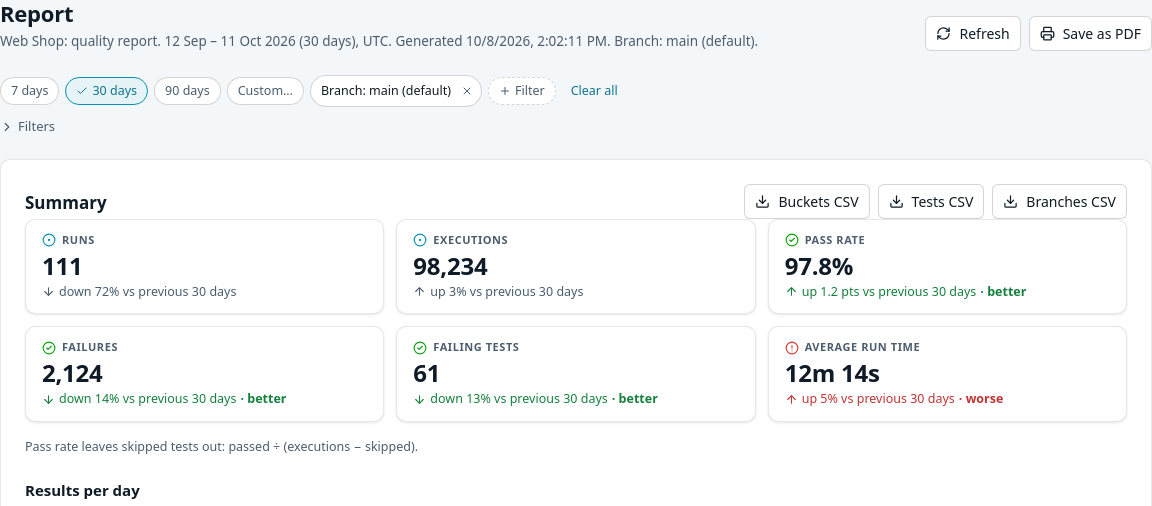
Scenario: a change back to answers already cached announces again; a failed summary is not announced
Expected: the element "Runs 111 down 72% vs previous 30 days" is shown, x1=25 y1=219 x2=384 y2=314
Click the button named "Remove filter Branch: main (default)". click: (467, 91)
box: x1=455 y1=79 x2=479 y2=103
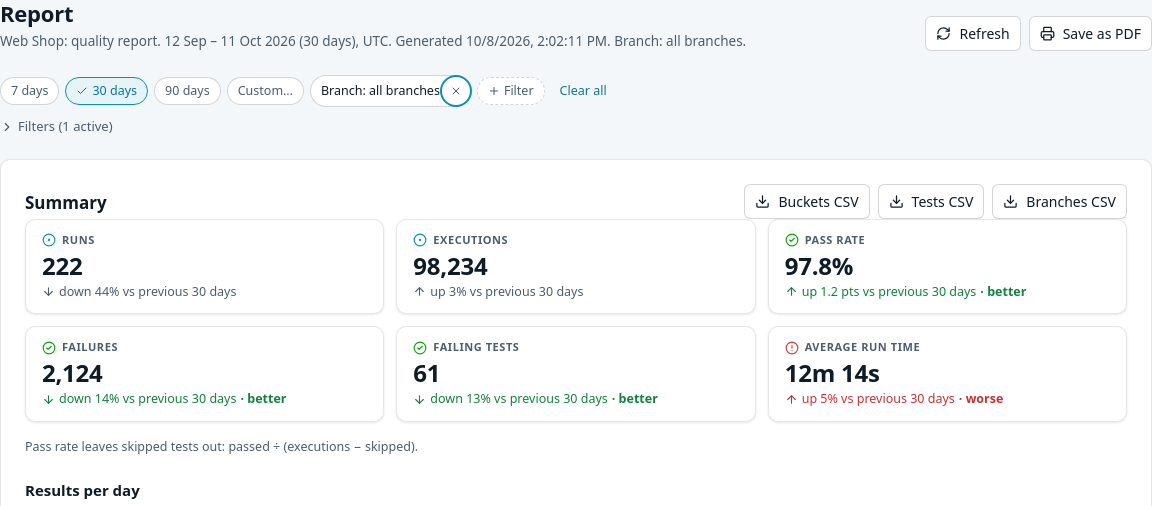
Click the button named "Remove filter Branch: all branches". click: (456, 91)
box: x1=444 y1=79 x2=468 y2=103
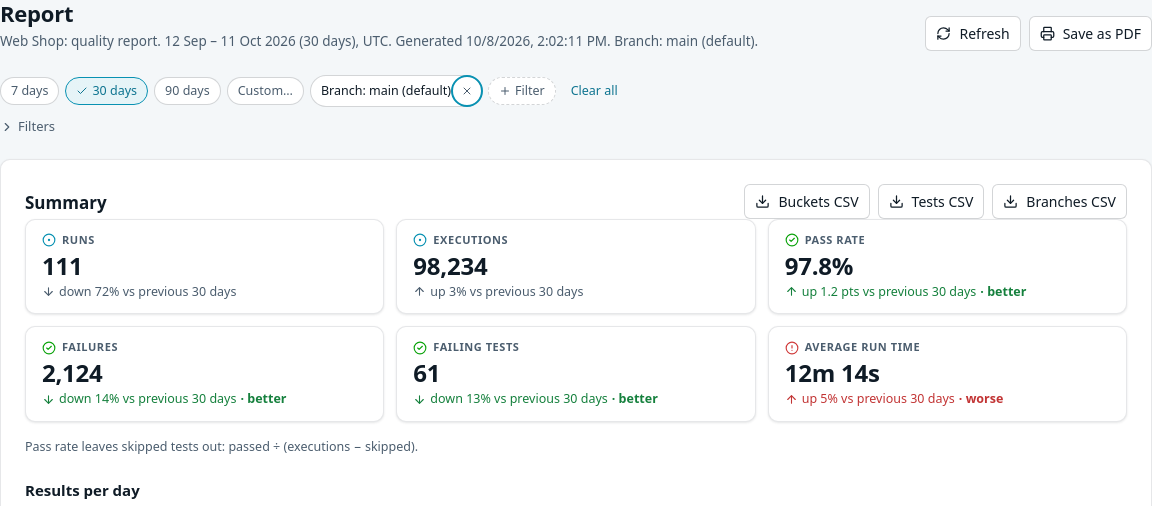
Expected: the element "Runs 111 down 72% vs previous 30 days" is shown, x1=25 y1=219 x2=384 y2=314
Click the button "7 days". click: (30, 91)
box: x1=0 y1=77 x2=60 y2=105
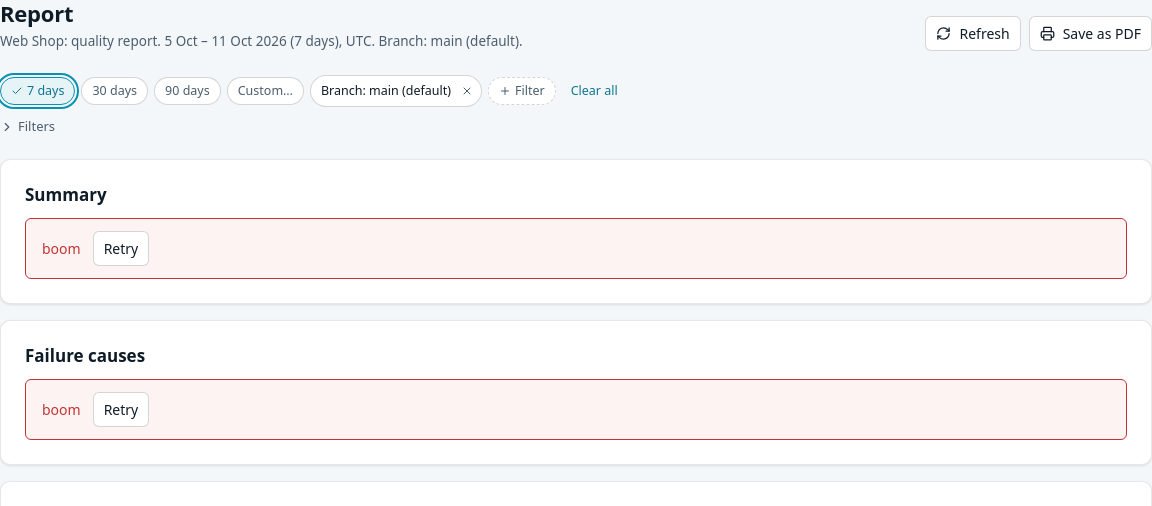
Expected: the button "Retry" below "Summary" is shown, x1=93 y1=231 x2=149 y2=266
